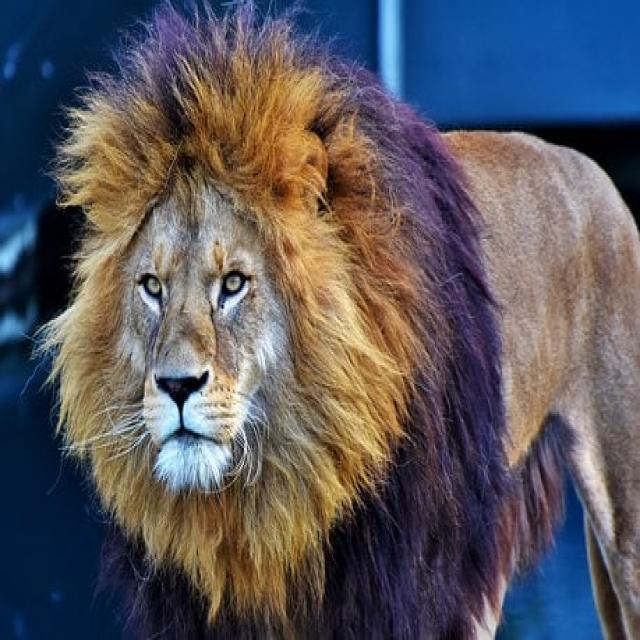Lion: (45, 4, 639, 638)
